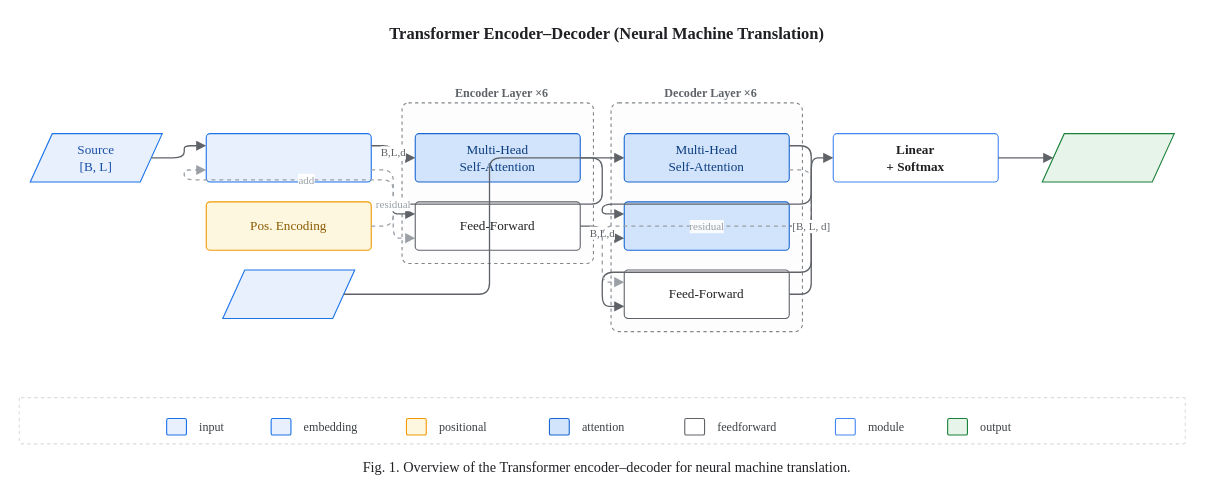
Image size: 1213x495. Some labels were removed from this diagram. Each missing label, with the centre of its shape:
Multi-Head Cross-Attention: the point at 706,225
Output [B, L, V]: the point at 1107,157
Target [B, L]: the point at 288,293
Token Embedding: the point at 288,157
